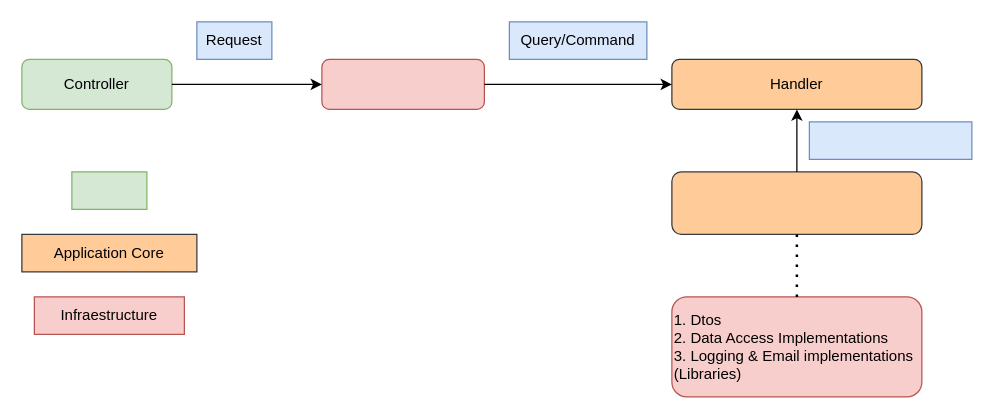
Image size: 994x419. Some labels were removed from this diagram. The shapes that lost their labels are listed below. From the top down, each one's centre as x and y in pixels, then its label:
At (402,83): "Mediator (CQRS)".
At (890,140): "Dependency Injection".
At (109,190): "API".
At (796,202): "Mapper Data Access Interfaces Logging & Email Contracts".
